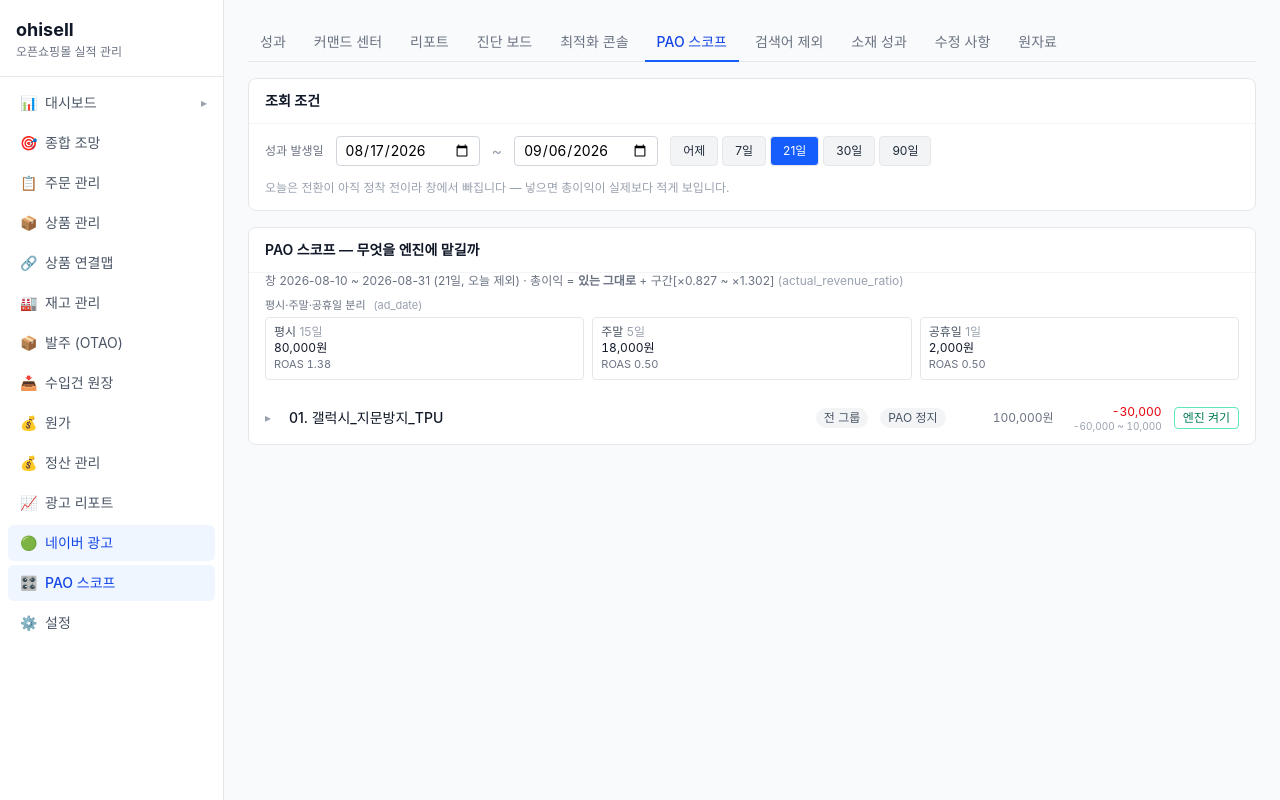
★재개방의 손이 사람에게 닿는 경로 › RSUR-4: 서버가 막으면(ok:false) 그 사유가 화면에 뜬다 — 조용한 no-op 금지
The image size is (1280, 800).
Click the text "01. 갤럭시_지문방지_TPU": click(366, 417) [289, 409, 443, 426]
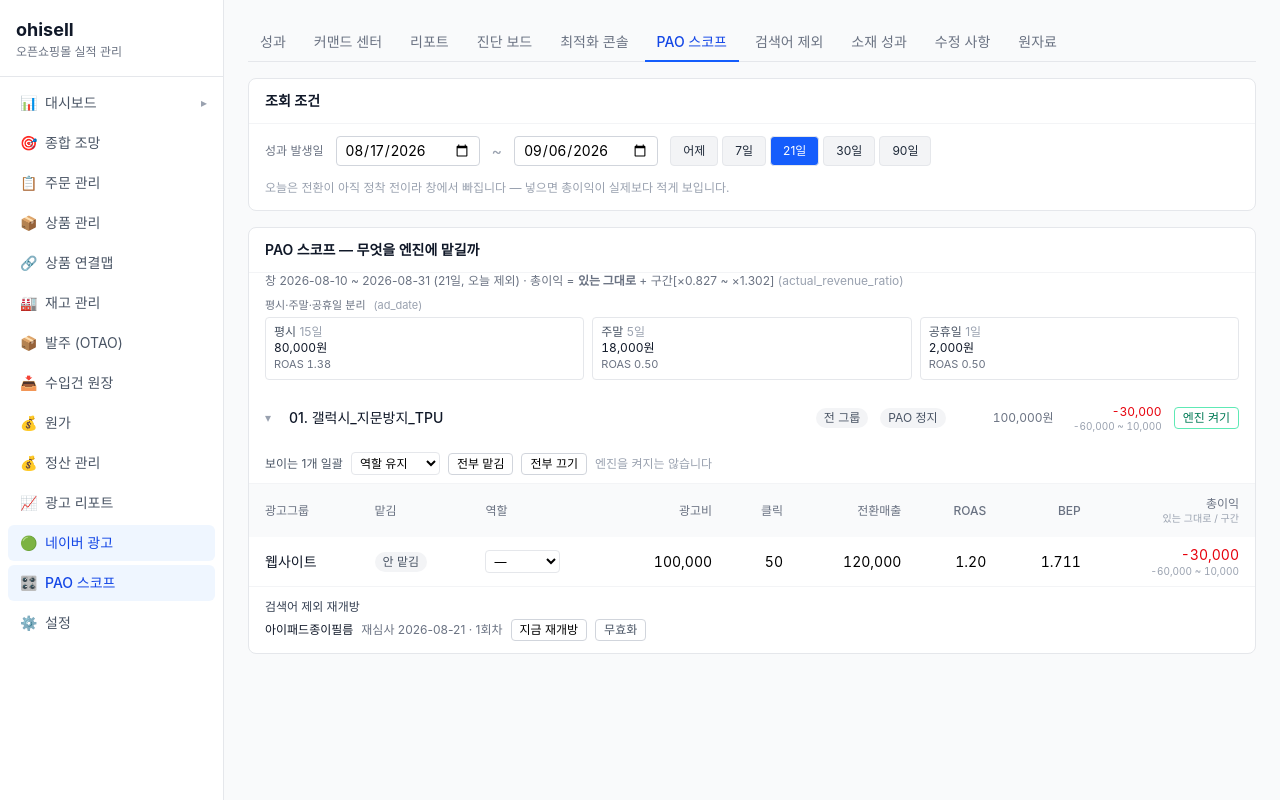
Click the button "지금 재개방": click(549, 630) [510, 619, 587, 641]
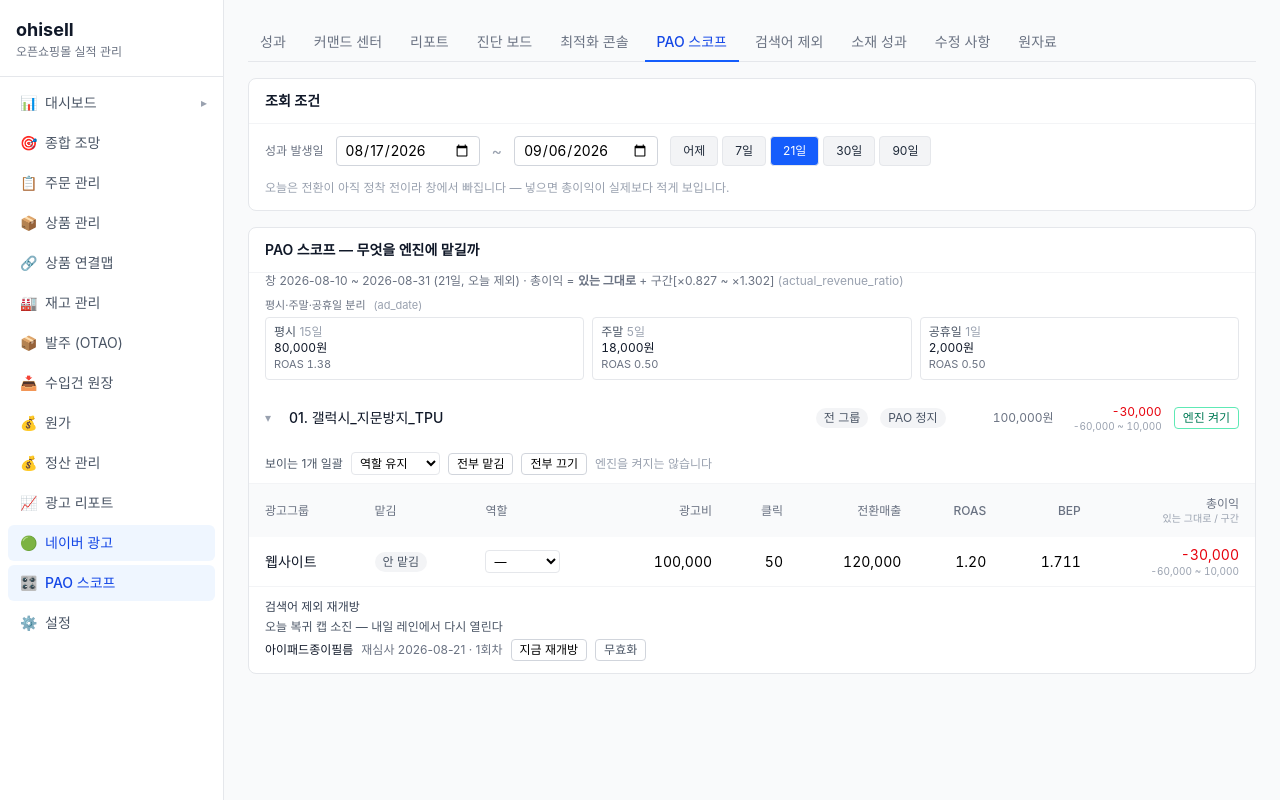
Result: the text "오늘 복귀 캡 소진 — 내일 레인에서 다시 열린다" is shown at [265, 619, 503, 634]
